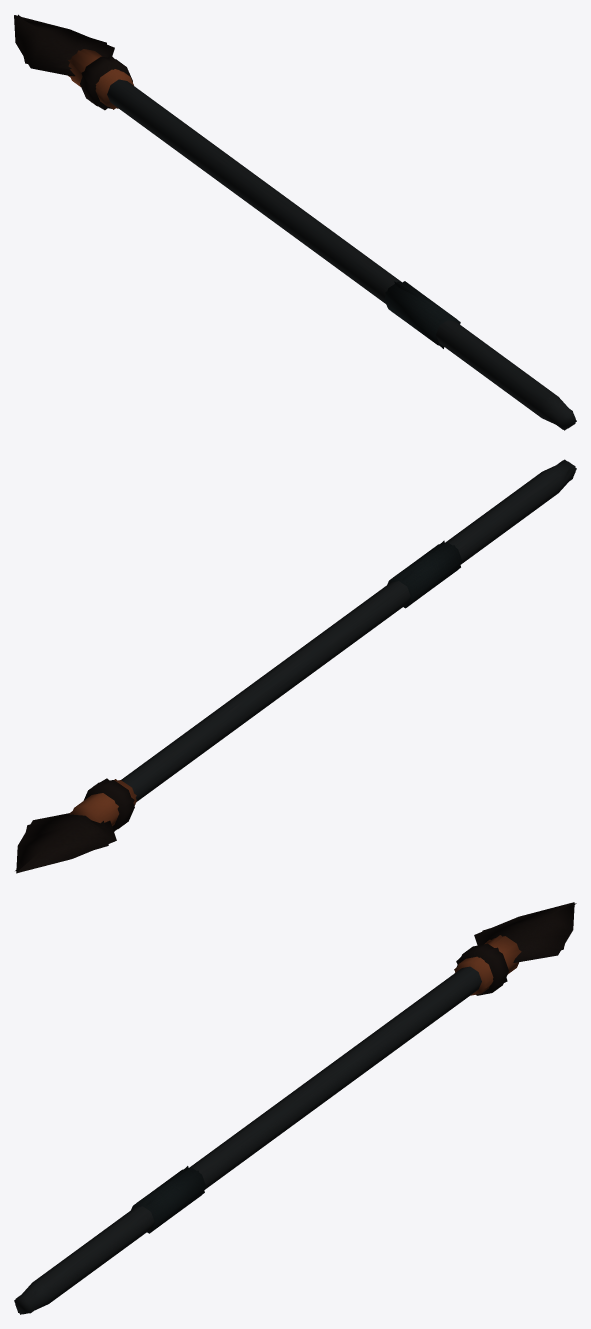
The picture shows the model from 3 angles, top to bottom: view 1: azimuth 30°, elevation 25°; view 2: azimuth 150°, elevation 25°; view 3: azimuth 330°, elevation 25°; orthographic projection.
Parts seen in each view (by area): view 1: body_lod1, body_lod2, body_lod3; view 2: body_lod1, body_lod2, body_lod3; view 3: body_lod1, body_lod2.
Part boxes in pixels (<box>): body_lod1: <box>14,15,575,428</box>; body_lod2: <box>15,15,575,429</box>; body_lod3: <box>18,14,576,430</box>; body_lod1: <box>16,461,575,873</box>; body_lod2: <box>17,460,575,871</box>; body_lod3: <box>15,459,576,870</box>; body_lod1: <box>15,902,574,1314</box>; body_lod2: <box>15,902,574,1313</box>.
Size of the model in its own units: 15 by 7.6 by 171.
